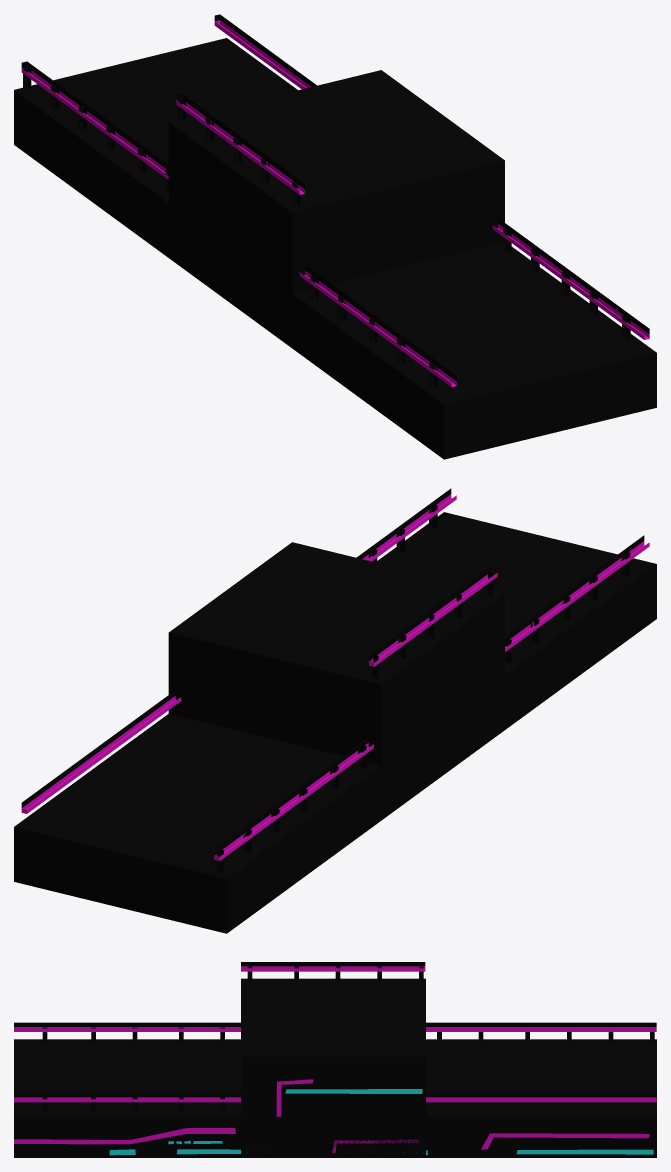
Rendered from neonyol1.fbx.
3 renders of one model, top to bottom at view 1: azimuth 30°, elevation 25°; view 2: azimuth 150°, elevation 25°; view 3: azimuth 270°, elevation 25°, orthographic. The views are drawn at different scales.
Visible parts, largest first — view 1: Cube.127, Cube.059; view 2: Cube.127, Cube.059; view 3: Cube.127, Cube.059.
Part boxes in pixels (<box>): Cube.127: <box>14,38,656,459</box>; Cube.059: <box>21,14,649,386</box>; Cube.127: <box>14,512,656,933</box>; Cube.059: <box>21,488,649,860</box>; Cube.127: <box>14,962,656,1157</box>; Cube.059: <box>14,1022,656,1112</box>.
Size of the model in its own units: 200 by 145 by 700.
